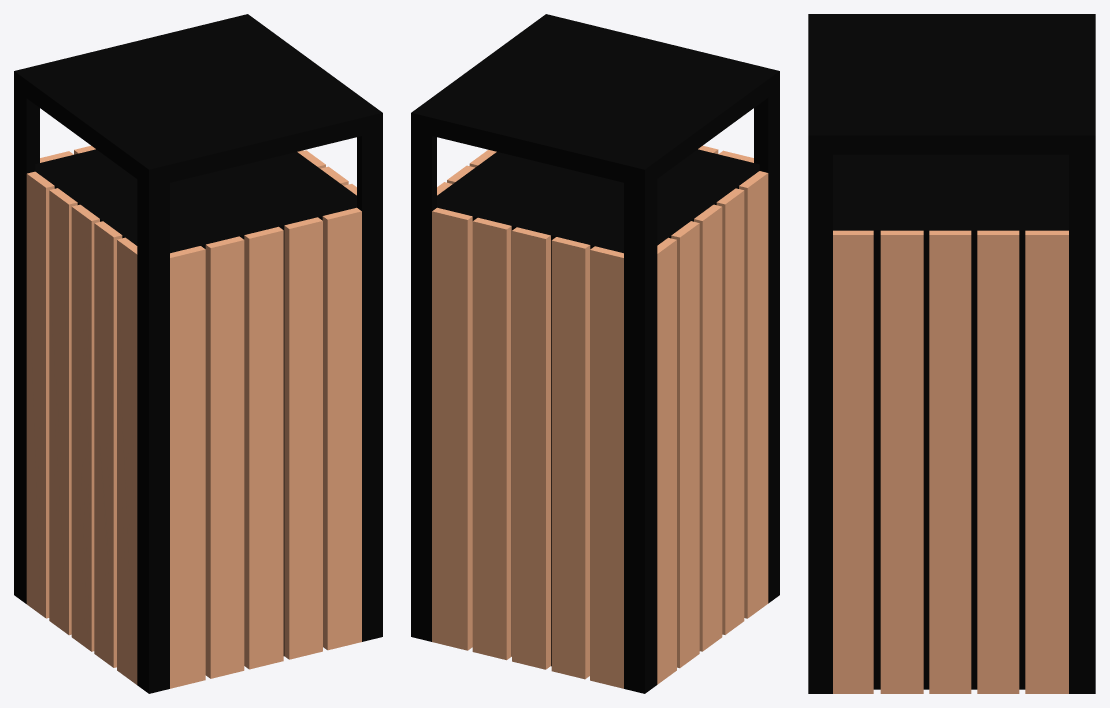
Rendered from Bin.fbx.
3 views of the same model, side by side, from view 1: azimuth 30°, elevation 25°; view 2: azimuth 150°, elevation 25°; view 3: azimuth 270°, elevation 25° (orthographic). The views are drawn at different scales.
Parts seen in each view (by area): view 1: Cube; view 2: Cube; view 3: Cube.
Boxes of the visible parts, x1=… form: Cube: x1=14, y1=14, x2=382, y2=693; Cube: x1=411, y1=14, x2=779, y2=693; Cube: x1=808, y1=14, x2=1095, y2=693.
Bounding box in the file's own units: 140 × 300 × 140.
